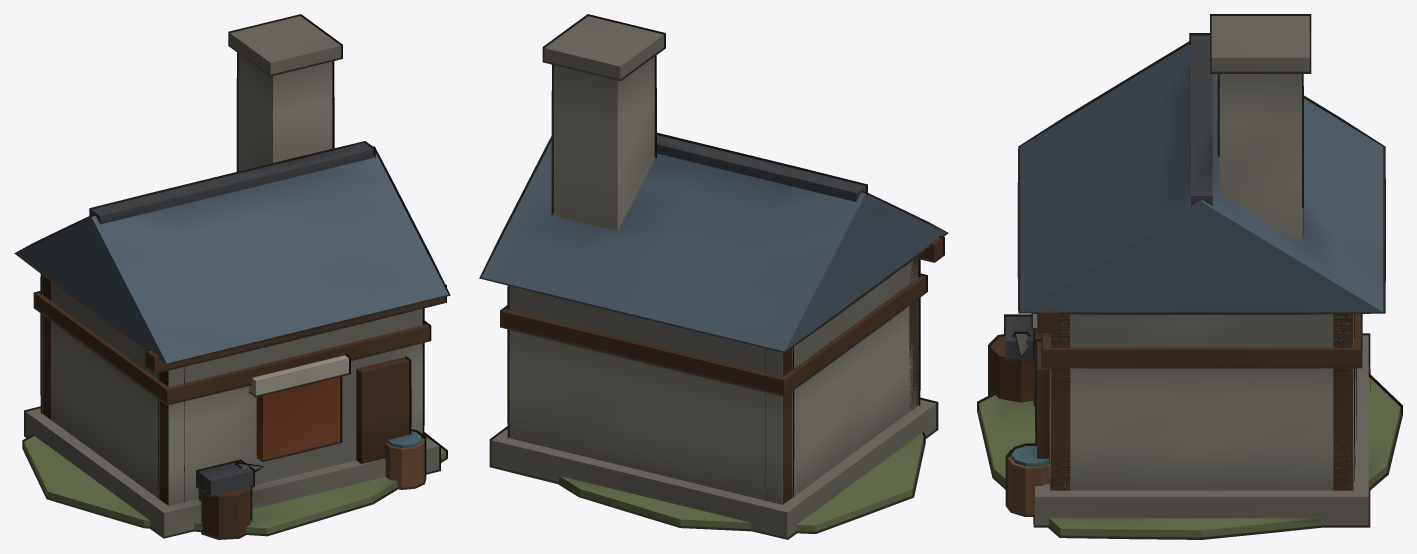
Rendered from forge.glb.
3 renders of one model, left to right at view 1: azimuth 30°, elevation 25°; view 2: azimuth 150°, elevation 25°; view 3: azimuth 270°, elevation 25°, orthographic. The views are drawn at different scales.
Parts seen in each view (by area): view 1: forge, forge_outline; view 2: forge, forge_outline; view 3: forge, forge_outline.
Boxes of the visible parts, x1,y1,x2,y2 form: forge: [16, 16, 448, 537]; forge_outline: [14, 14, 450, 539]; forge: [481, 16, 945, 537]; forge_outline: [479, 14, 948, 539]; forge: [979, 16, 1400, 537]; forge_outline: [977, 14, 1402, 539].
Size of the model in its own units: 2.45 by 2.57 by 2.17.
